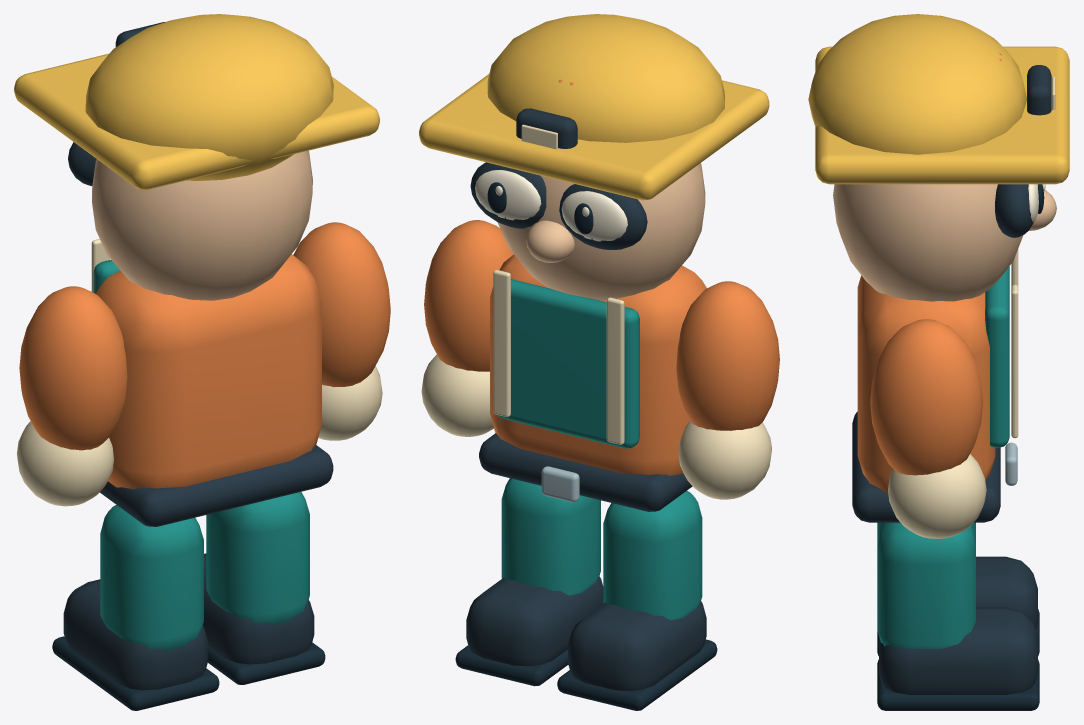
Rendered from worker.glb.
The picture shows the model from 3 angles, left to right: view 1: azimuth 30°, elevation 25°; view 2: azimuth 150°, elevation 25°; view 3: azimuth 270°, elevation 25°; orthographic projection. The views are drawn at different scales.
Visible parts, largest first — view 1: Suit, Helmet, Face, Sleeve, Helmet brim, Trouser, Trouser.001, Sleeve.001, Belt, Boot, Glove, Boot.001 (+4 smaller); view 2: Helmet, Helmet brim, Vest, Suit, Sleeve, Face, Trouser, Trouser.001, Sleeve.001, Boot, Boot.001, Belt (+14 smaller); view 3: Helmet, Face, Sleeve.001, Helmet brim, Trouser.001, Boot.001, Suit, Glove.001, Vest, Boot, Sole.001, Belt (+5 smaller).
Part boxes in pixels (left/top/right/bottom): Suit: left=95, top=254, right=321, bottom=489; Helmet: left=85, top=14, right=333, bottom=181; Face: left=92, top=150, right=312, bottom=300; Sleeve: left=19, top=286, right=127, bottom=450; Helmet brim: left=14, top=53, right=379, bottom=189; Trouser: left=100, top=505, right=203, bottom=650; Trouser.001: left=206, top=492, right=309, bottom=624; Sleeve.001: left=293, top=222, right=390, bottom=386; Belt: left=100, top=445, right=333, bottom=526; Boot: left=63, top=579, right=208, bottom=690; Glove: left=16, top=421, right=113, bottom=506; Boot.001: left=203, top=553, right=314, bottom=664; Helmet: left=487, top=14, right=724, bottom=142; Helmet brim: left=419, top=74, right=769, bottom=200; Vest: left=498, top=279, right=639, bottom=448; Suit: left=490, top=254, right=706, bottom=475; Sleeve: left=676, top=281, right=779, bottom=430; Face: left=497, top=163, right=705, bottom=300; Trouser: left=603, top=491, right=702, bottom=620; Trouser.001: left=501, top=478, right=600, bottom=595; Sleeve.001: left=424, top=220, right=513, bottom=371; Boot: left=568, top=601, right=706, bottom=690; Boot.001: left=466, top=576, right=603, bottom=666; Belt: left=479, top=433, right=692, bottom=511; Helmet: left=808, top=14, right=1026, bottom=154; Face: left=833, top=184, right=1023, bottom=301; Sleeve.001: left=870, top=319, right=982, bottom=475; Helmet brim: left=815, top=46, right=1069, bottom=184; Trouser.001: left=877, top=522, right=975, bottom=648; Boot.001: left=879, top=607, right=1037, bottom=694; Suit: left=857, top=275, right=995, bottom=494; Glove.001: left=888, top=454, right=986, bottom=538; Vest: left=985, top=266, right=1009, bottom=447; Boot: left=976, top=556, right=1037, bottom=629; Sole.001: left=877, top=659, right=1039, bottom=710; Belt: left=852, top=411, right=1000, bottom=522.
Bounding box in the file's own units: 1.14 × 1.99 × 0.74.
